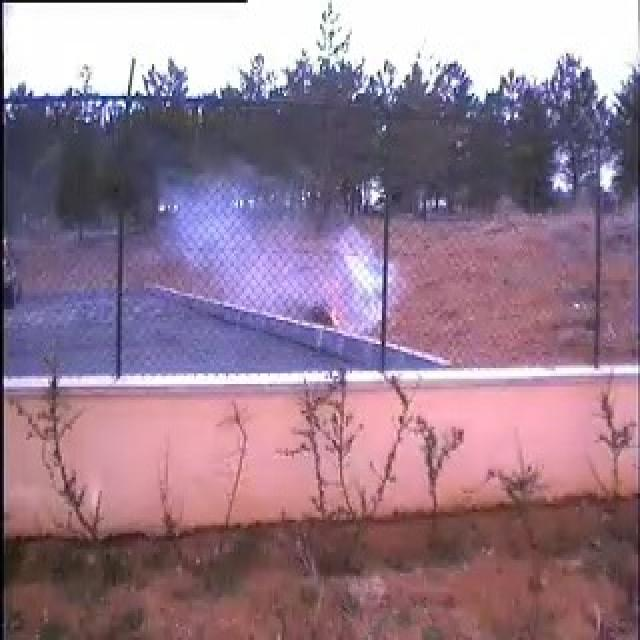smoke: (106, 165, 380, 368)
